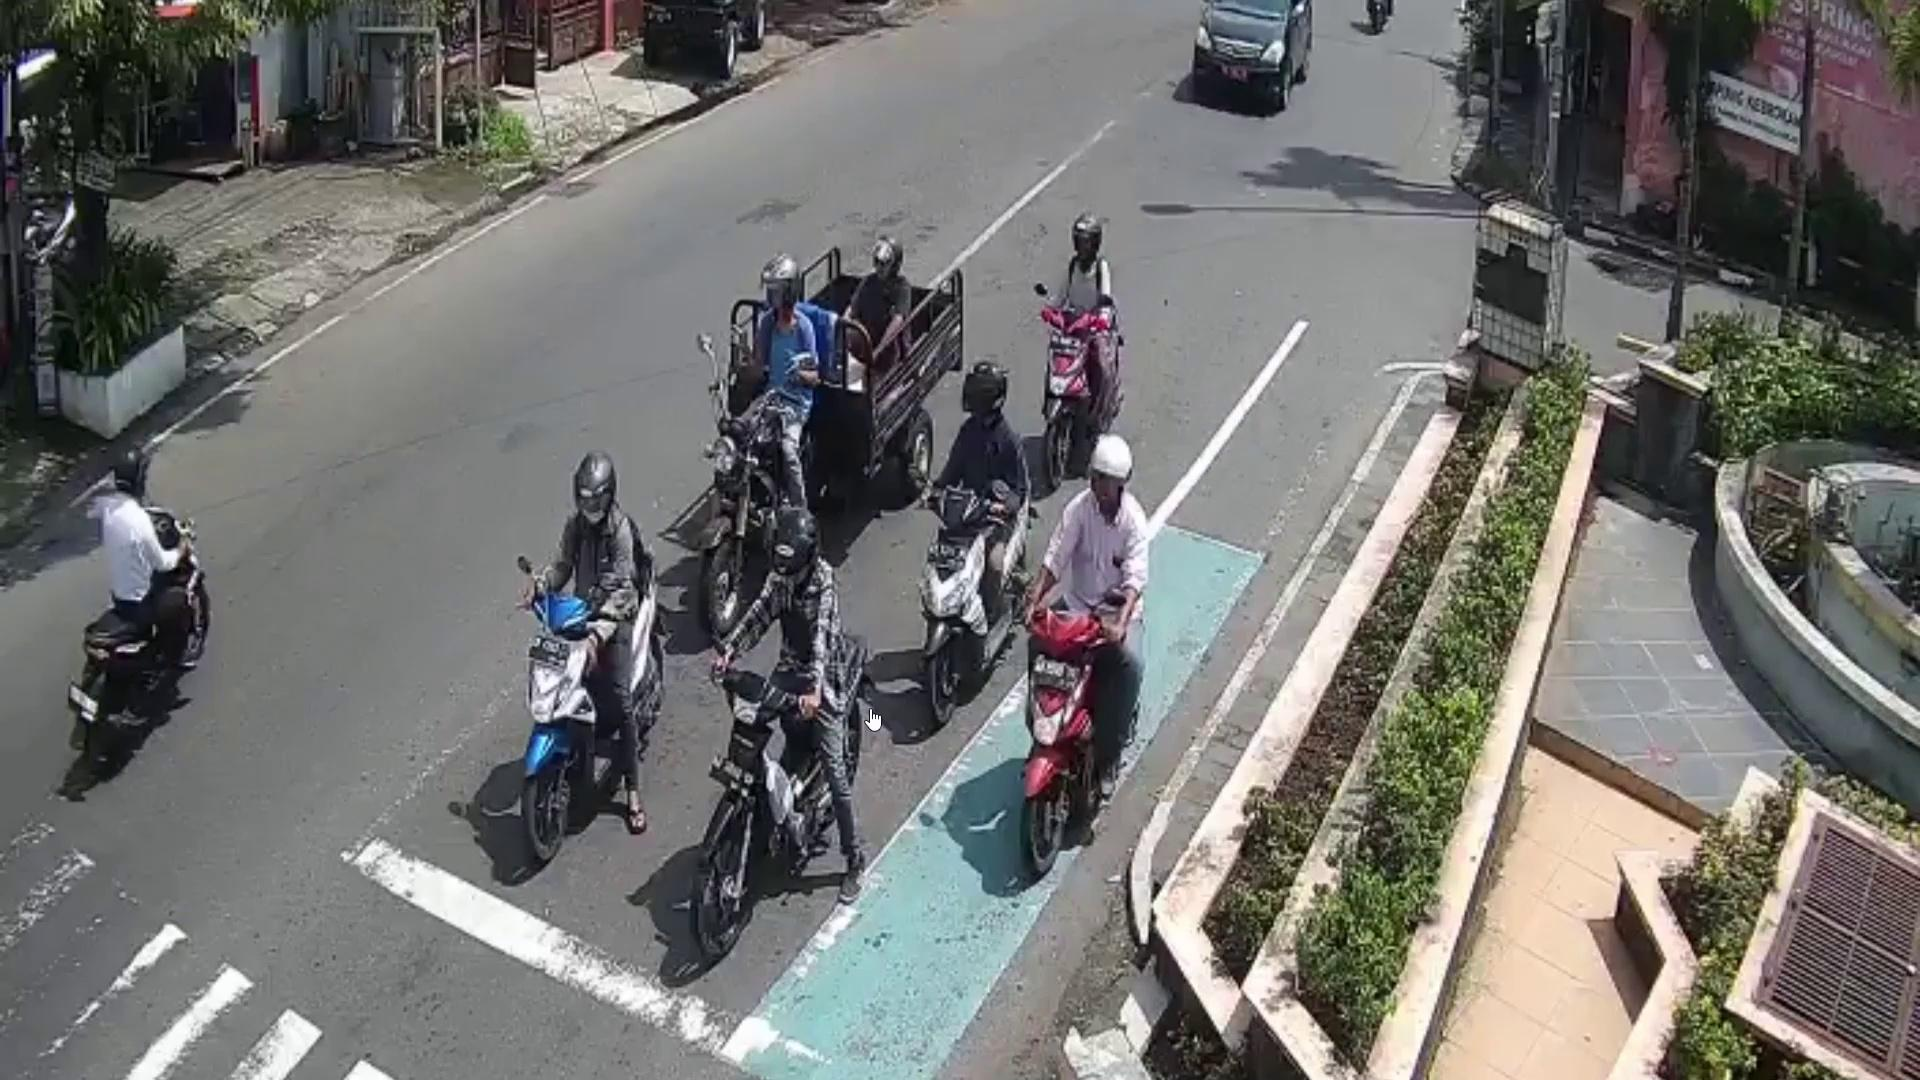car: (1192, 0, 1317, 115)
motorbike: (691, 632, 872, 949), (517, 542, 661, 884), (66, 508, 211, 785), (920, 475, 1034, 731), (700, 405, 812, 649), (1014, 608, 1109, 877), (1040, 303, 1102, 475)
